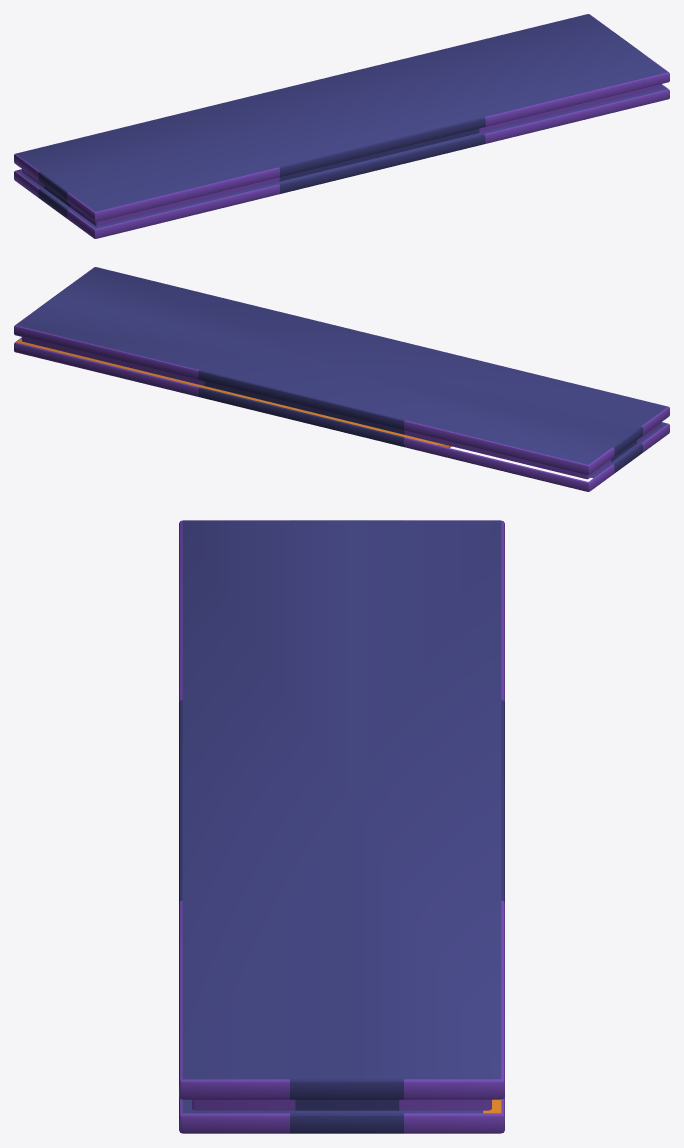
File: Table_Top_long_8_R2.fbx
3 renders of one model, top to bottom at view 1: azimuth 30°, elevation 25°; view 2: azimuth 150°, elevation 25°; view 3: azimuth 270°, elevation 25°, orthographic. The views are drawn at different scales.
Visible parts, largest first — view 1: mdl_Table_01_5; view 2: mdl_Table_01_5; view 3: mdl_Table_01_5.
Part boxes in pixels (left/top/right/bottom): mdl_Table_01_5: left=14, top=14, right=669, bottom=238; mdl_Table_01_5: left=14, top=267, right=669, bottom=491; mdl_Table_01_5: left=179, top=520, right=504, bottom=1133.
Bounding box in the file's own units: 810 × 36.3 × 199.
Materials: 1 (1 with a texture image).
